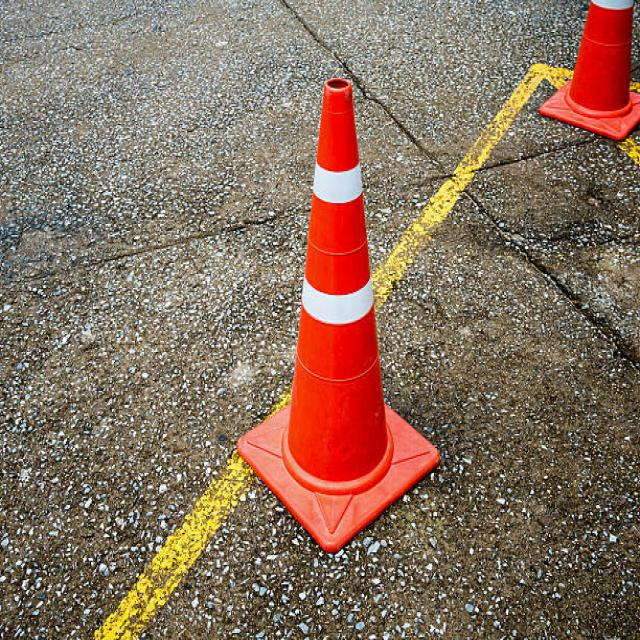Traffic Cone: (208, 38, 461, 562)
